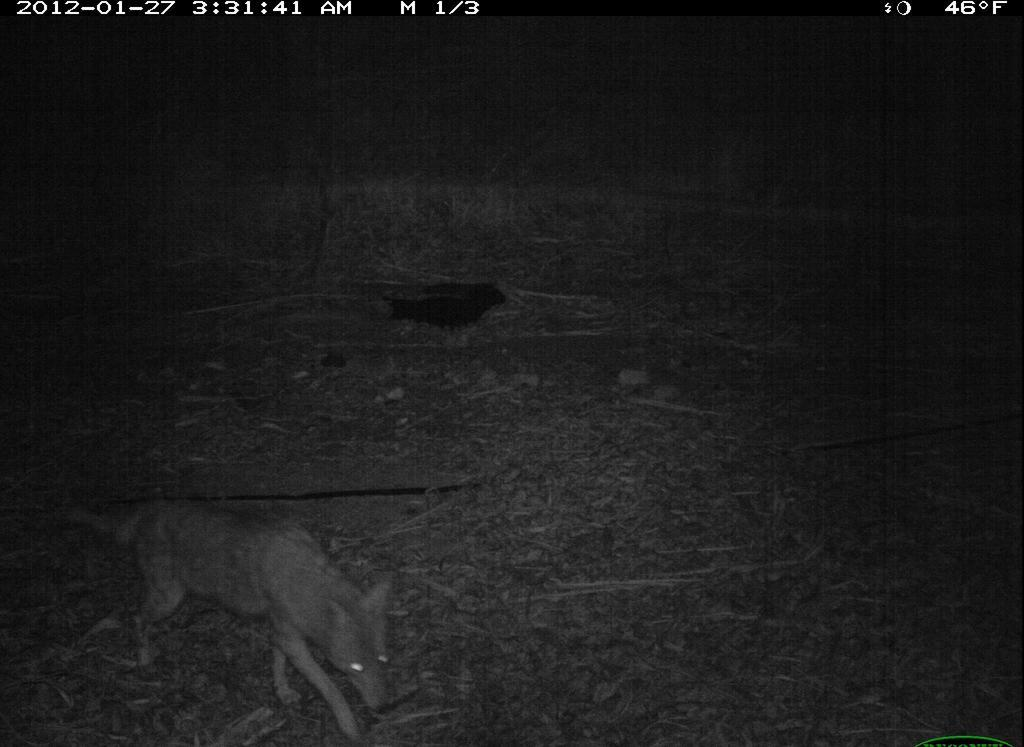coyote: (54, 484, 413, 740)
